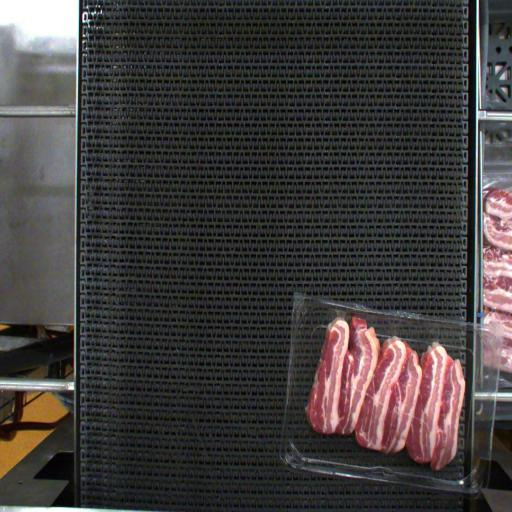packaging-error: (330, 304, 354, 323)
